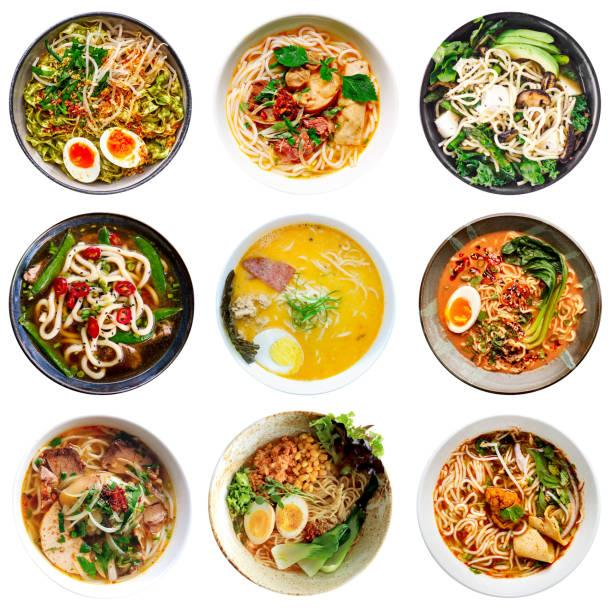Braised Crucian Carp: (208, 408, 389, 596), (7, 214, 191, 397), (418, 415, 597, 599), (9, 11, 189, 193), (11, 415, 187, 600), (419, 213, 597, 394), (217, 13, 395, 193), (421, 12, 597, 193), (217, 215, 391, 395)
